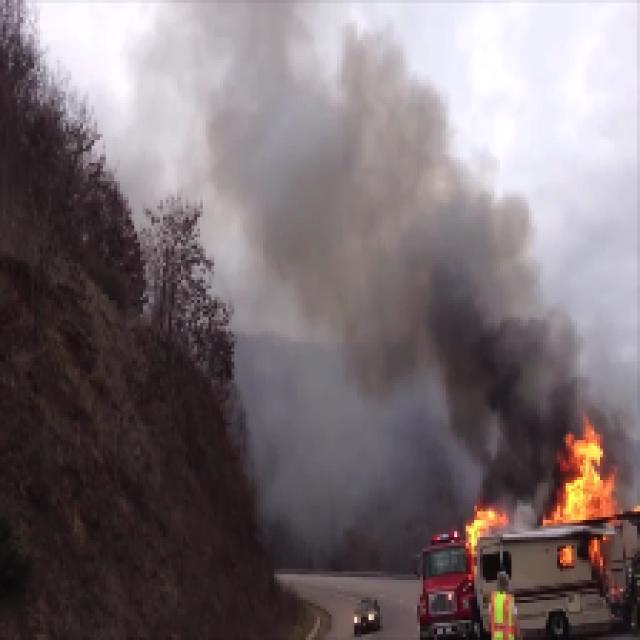Fire: (565, 424, 615, 518), (467, 507, 505, 555)
Smoke: (162, 6, 493, 348), (440, 349, 560, 447)
